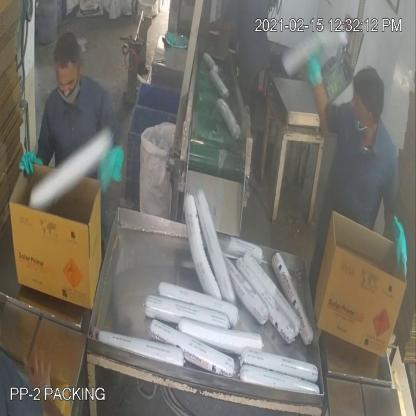glove: (387, 210, 413, 280), (15, 142, 46, 184)
